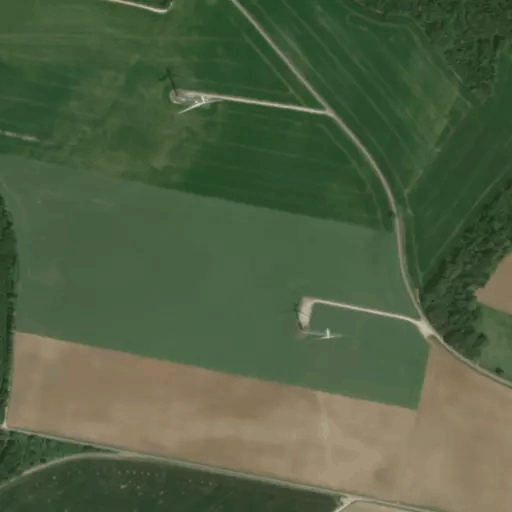wt: (149, 63, 229, 118), (273, 290, 349, 346)
